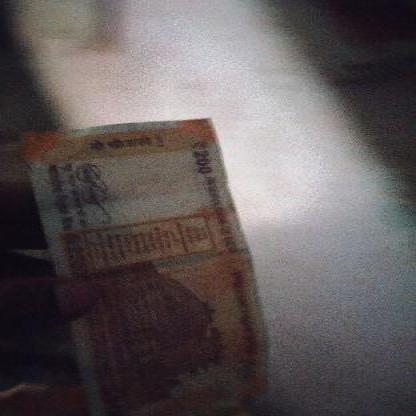New200Back: (24, 104, 276, 416)
